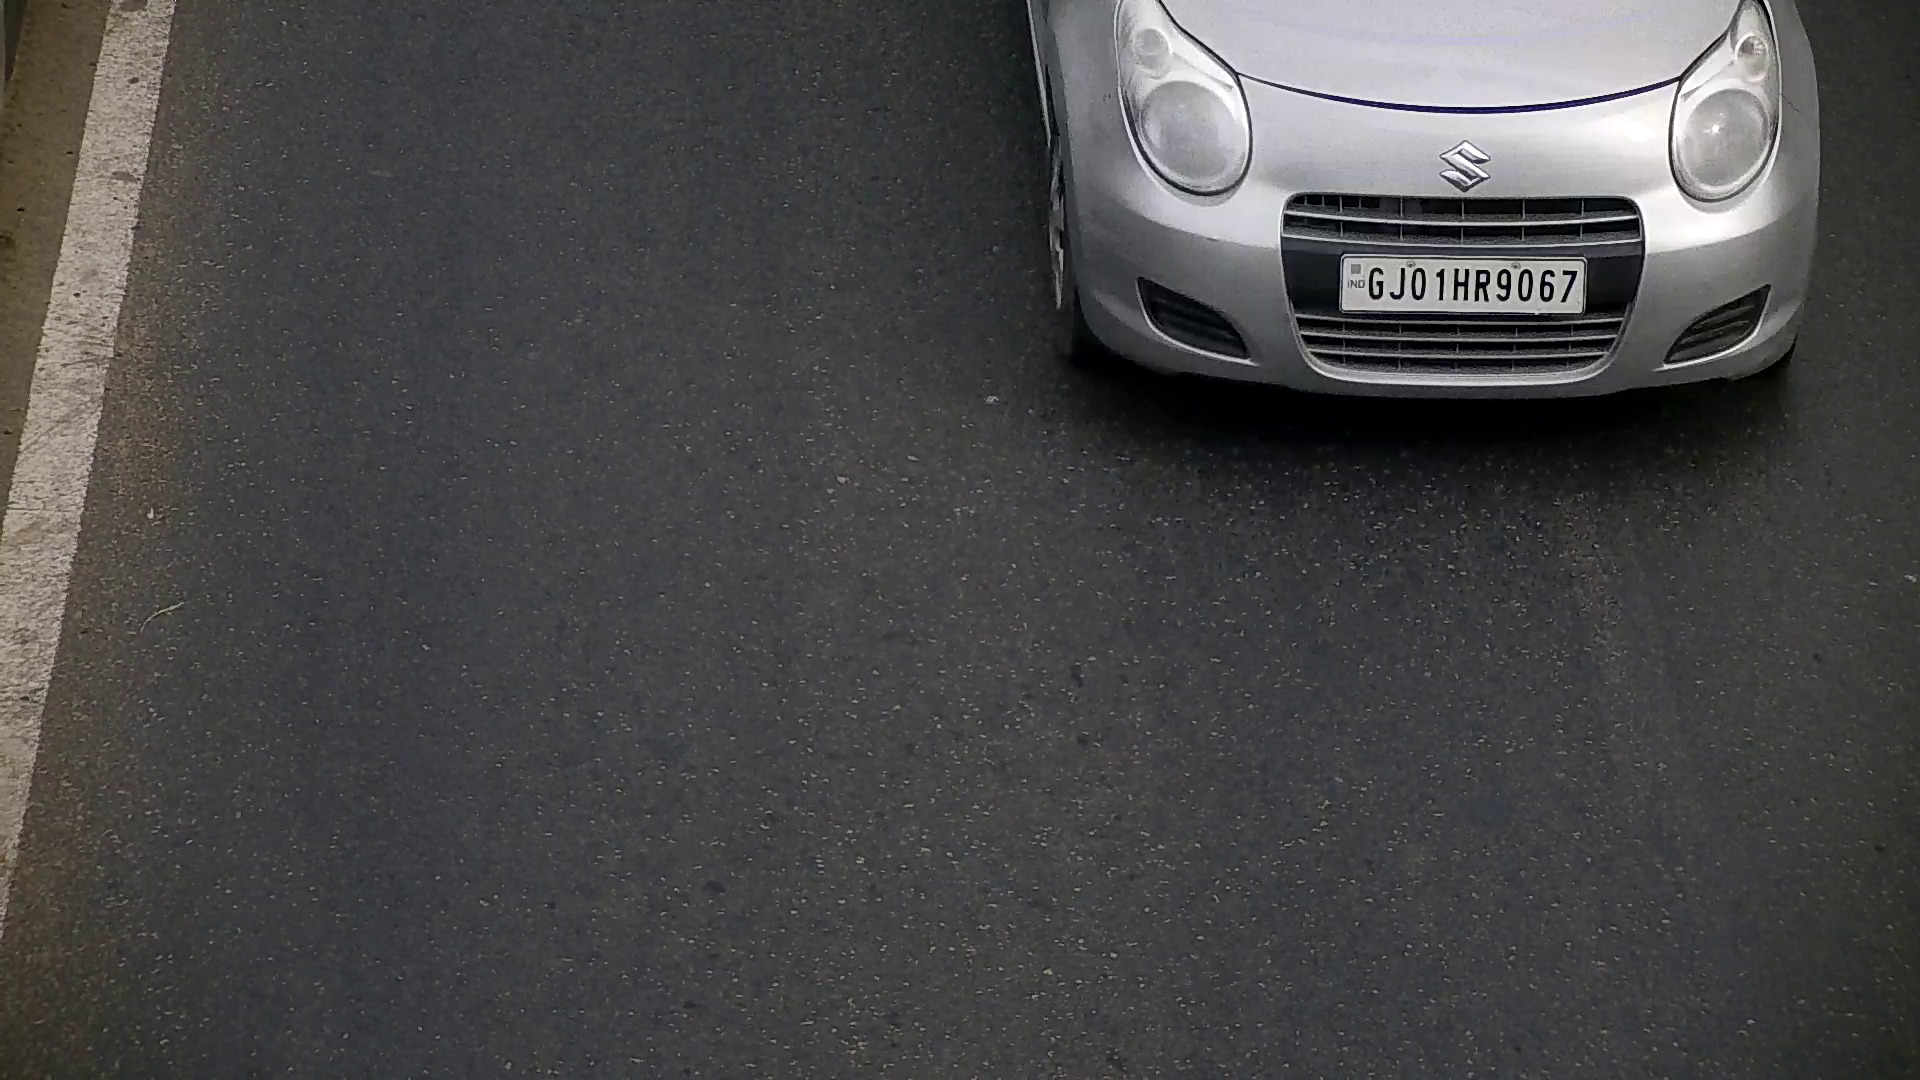numberplate: (1335, 250, 1589, 315)
